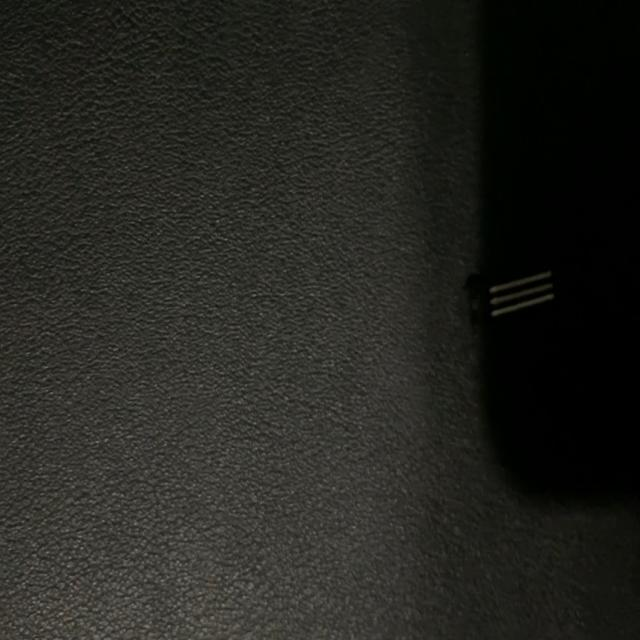BJT: (467, 268, 554, 330)
